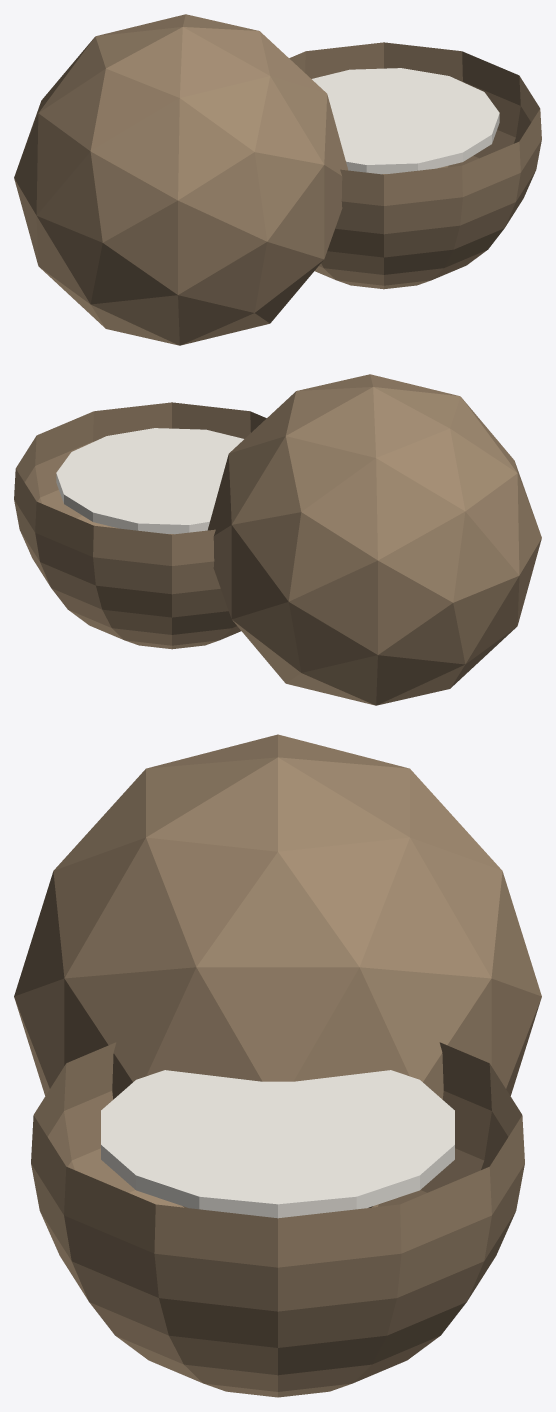
Rendered from 4179_coconut.glb.
The picture shows the model from 3 angles, top to bottom: view 1: azimuth 30°, elevation 25°; view 2: azimuth 150°, elevation 25°; view 3: azimuth 270°, elevation 25°; orthographic projection. The views are drawn at different scales.
Bounding box in the file's own units: 1.06 × 0.64 × 0.64.
